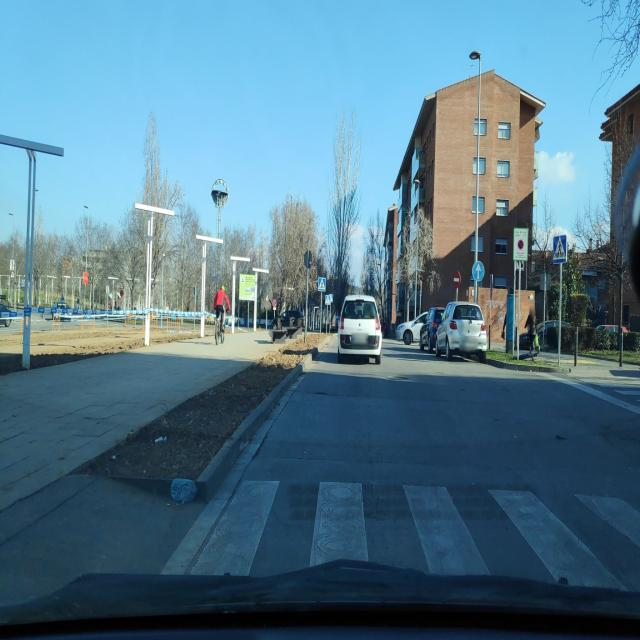forb_stopping: (517, 239, 523, 250)
